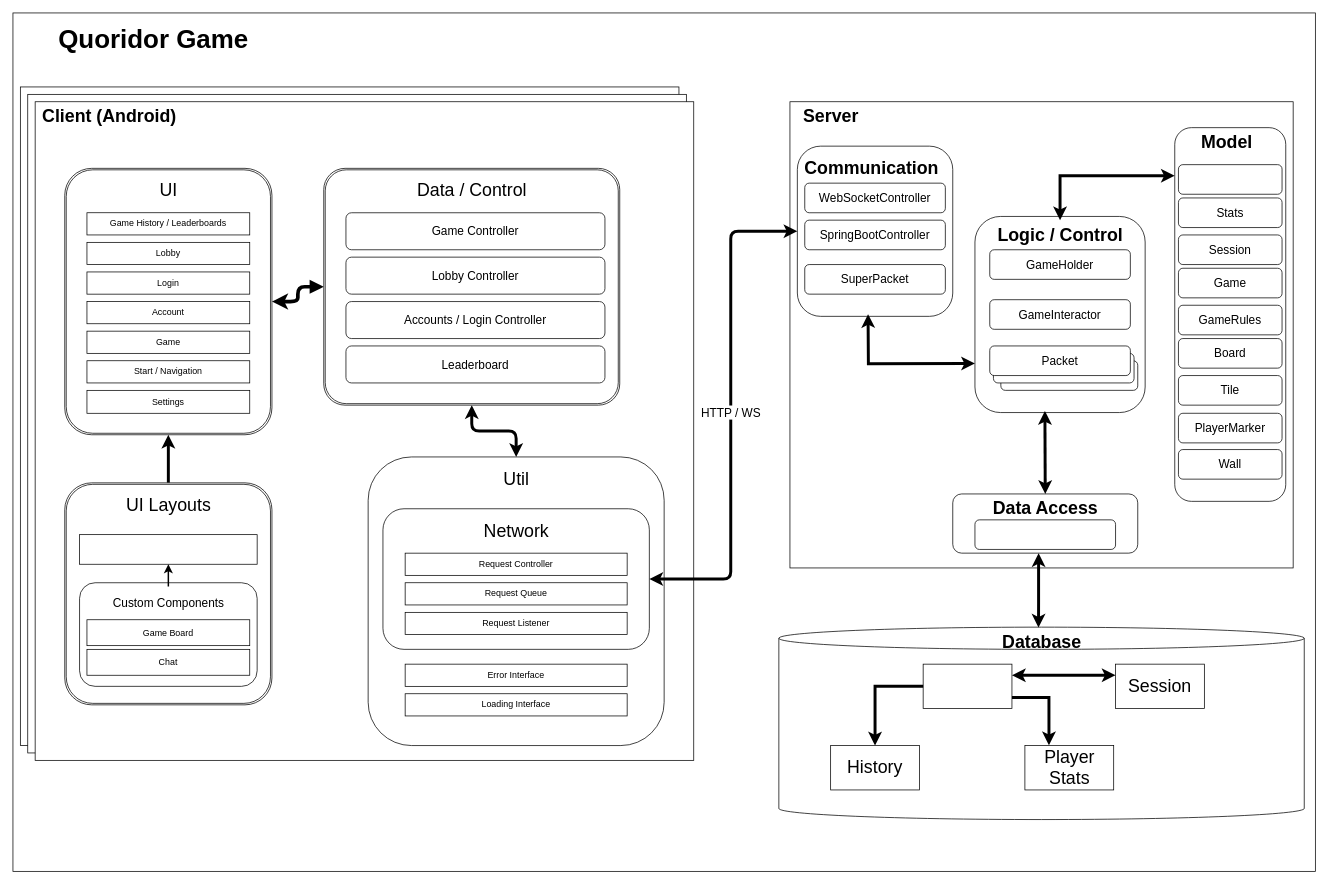
Image size: 1328x884. Some labels were removed from this diagram. The shapes that lost their labels are listed below. From the top down, each one's centre as x and y in pixels, then its label:
point (1230, 179): Player
point (168, 549): XML Specified Layouts
point (1045, 534): Hibernate
point (967, 686): Players
